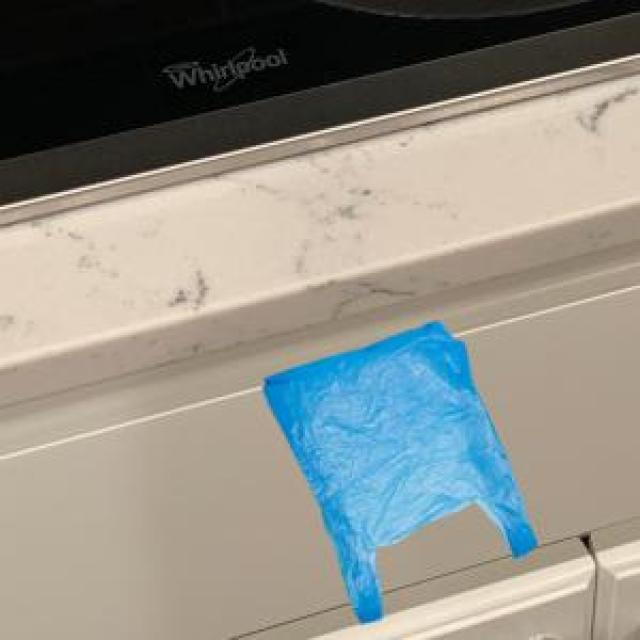plastic: (217, 288, 573, 632)
